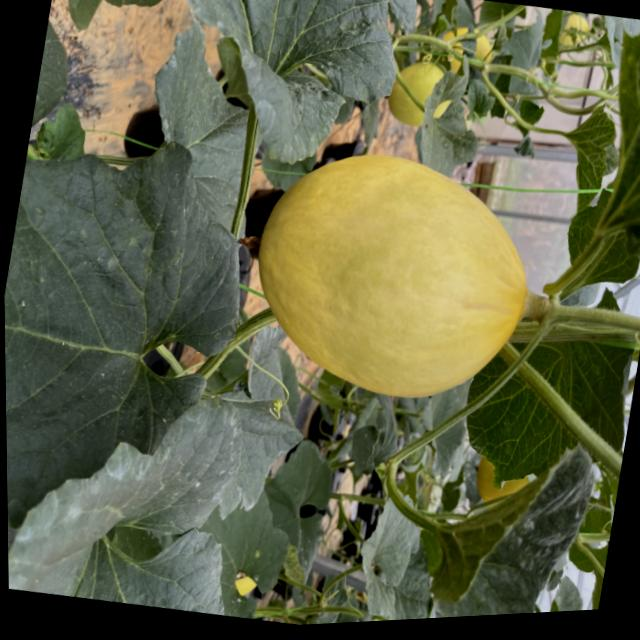downy mildew: (2, 128, 264, 534), (6, 370, 255, 625)
powdery mildew: (141, 0, 423, 195)
